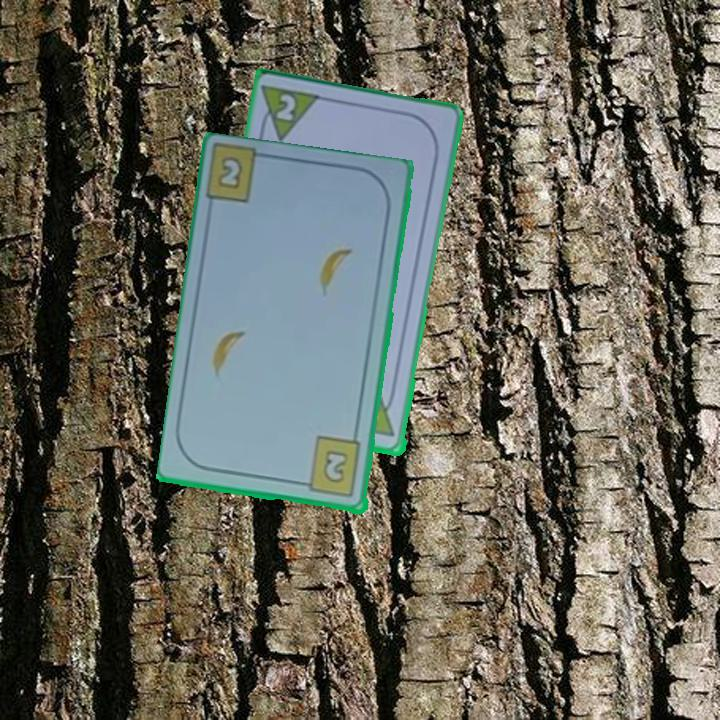2b: (297, 434, 365, 500), (217, 156, 244, 189)
2p: (273, 90, 299, 125)
